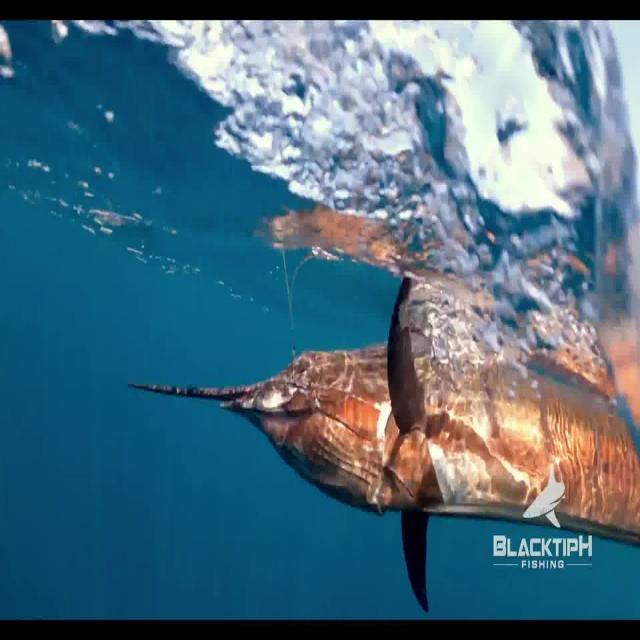Sail Fish: (127, 271, 640, 614)
